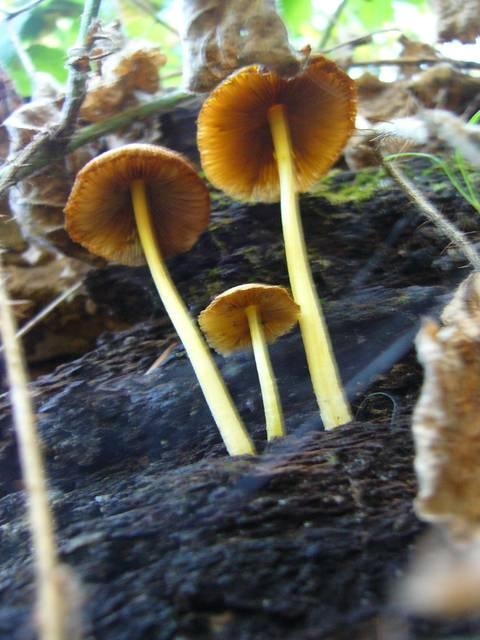Edible Mushroom: (194, 52, 358, 431), (62, 141, 256, 456), (196, 281, 302, 441)
